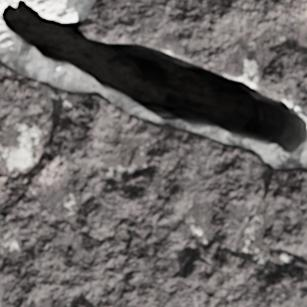brick: (0, 60, 306, 306), (80, 0, 306, 113), (0, 0, 18, 5)
crack: (1, 0, 304, 151)
